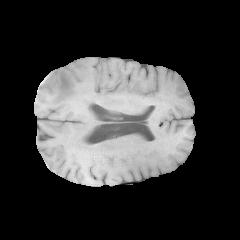glioma: (40, 57, 107, 105)
